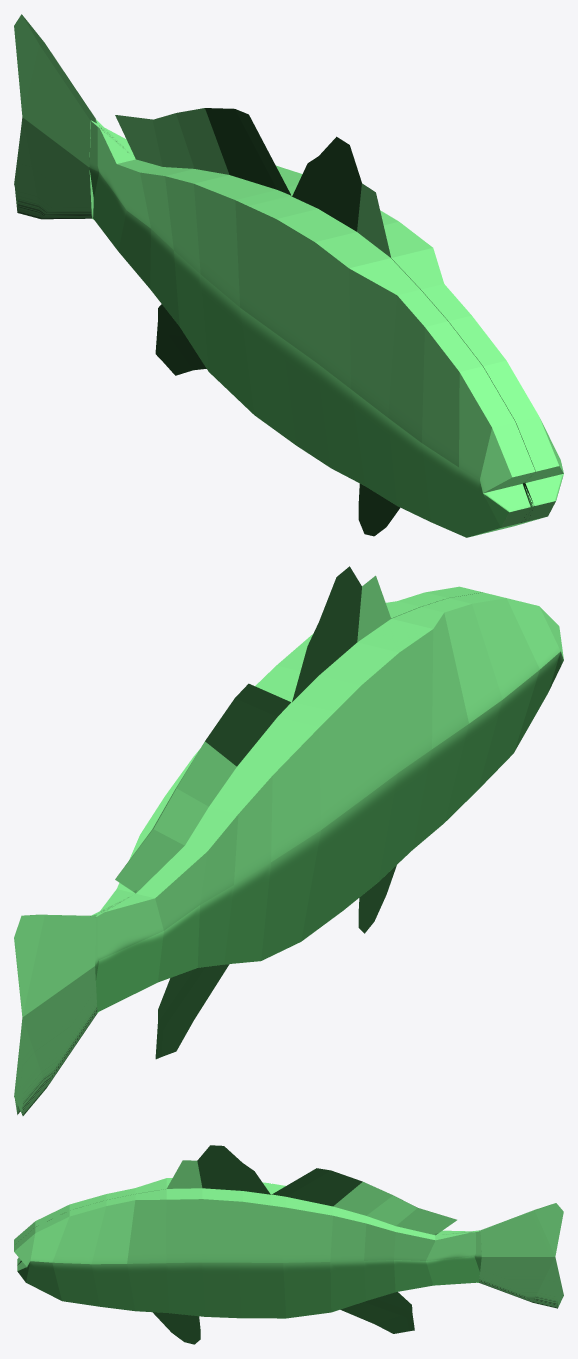
File: fish_5.glb
3 renders of one model, top to bottom at view 1: azimuth 30°, elevation 25°; view 2: azimuth 150°, elevation 25°; view 3: azimuth 270°, elevation 25°, orthographic. The views are drawn at different scales.
Visible parts, largest first — view 1: Cube.006_Material.003_0; view 2: Cube.006_Material.003_0; view 3: Cube.006_Material.003_0.
Boxes of the visible parts, box(x1,y1,x2,y2) form: Cube.006_Material.003_0: box(14, 14, 563, 537); Cube.006_Material.003_0: box(14, 566, 563, 1115); Cube.006_Material.003_0: box(14, 1145, 563, 1344).
Size of the model in its own units: 14.38 by 61.69 by 154.
1 material, 1 textured.
